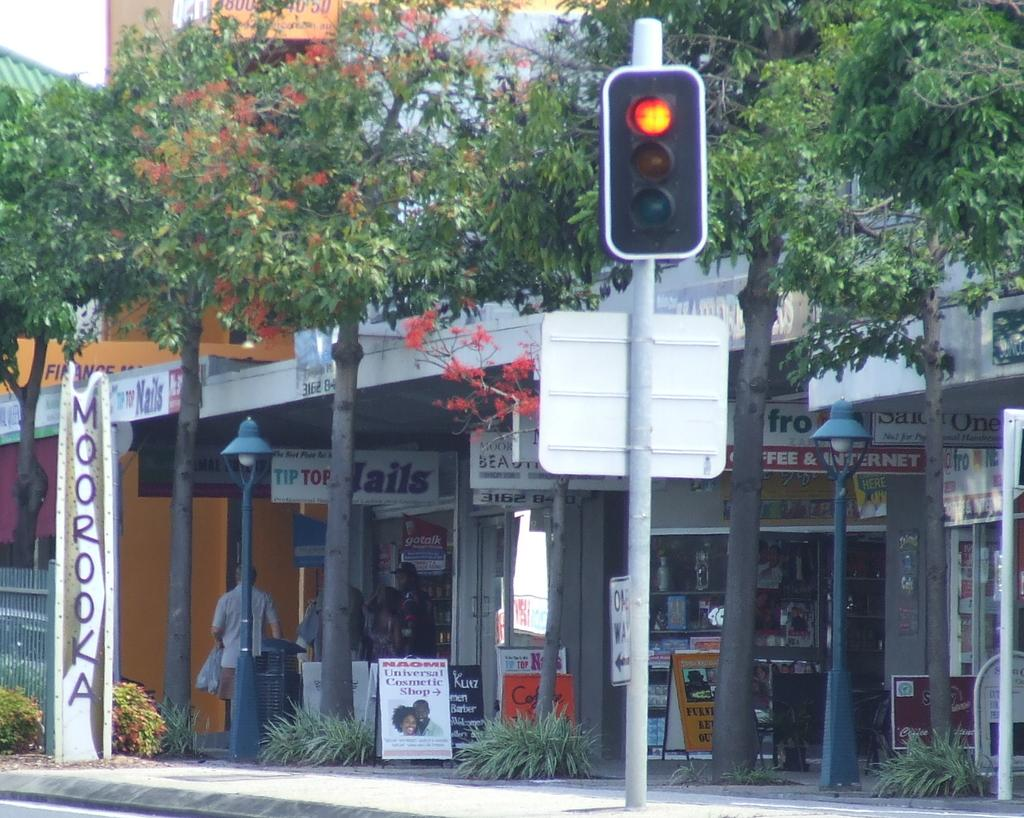red_light: (606, 66, 709, 257)
